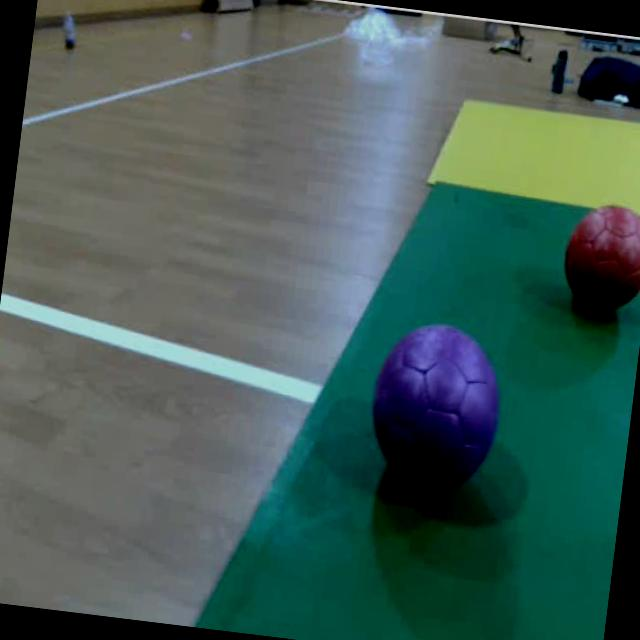purple_ball: (360, 313, 511, 510)
red_ball: (557, 200, 640, 327)
